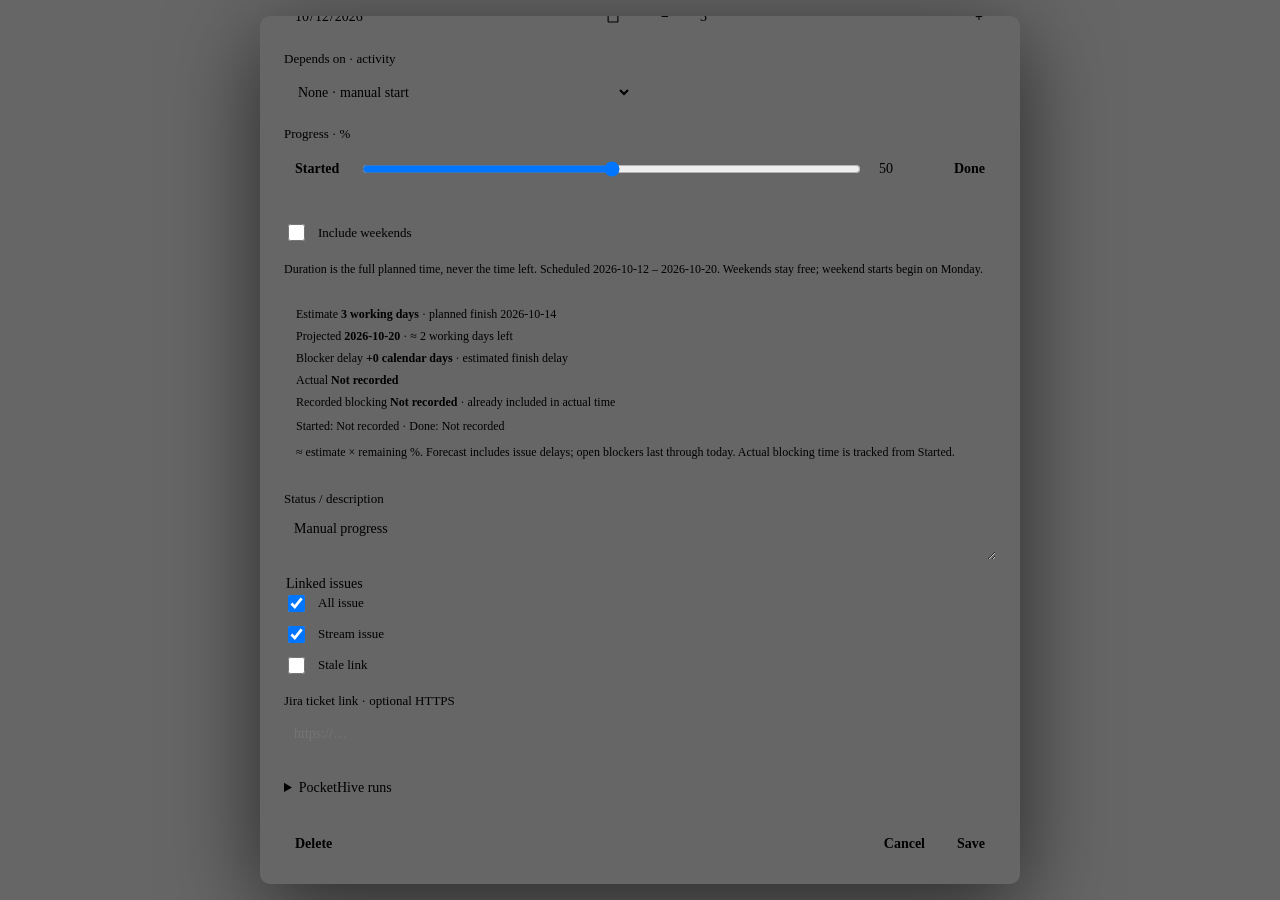
Test case: controlled activity editor › locks every field and action, Escape and dismissal for the whole save promise
(page scrolled)
Click the button "Save". click: [971, 844]
box: [946,828,996,860]
(page scrolled)
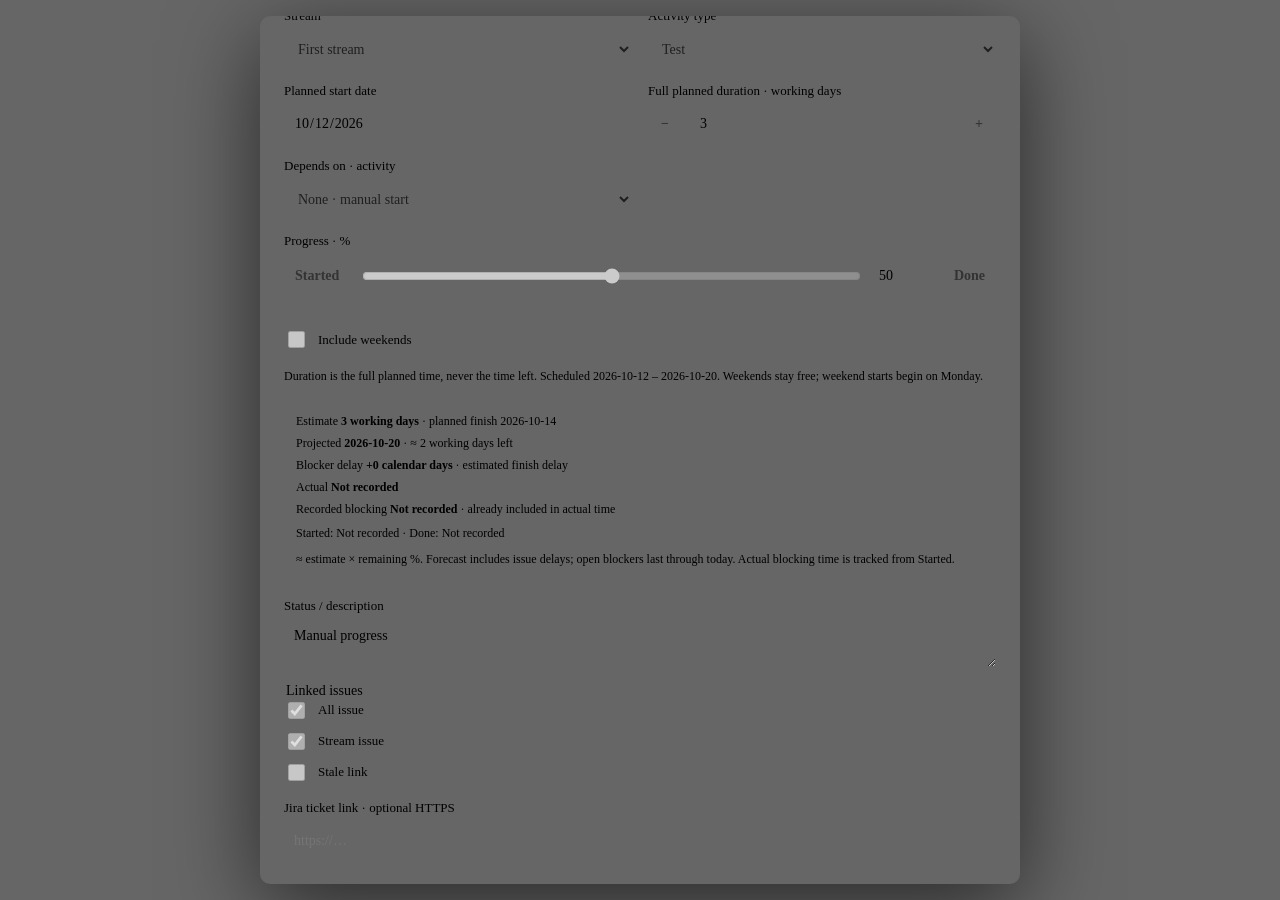
Expected: the dropdown labelled "Stream" is disabled, [284,31,632,67]
Expected: the dropdown labelled "Activity type" is disabled, [648,31,996,67]
Expected: the button "Started" is disabled, [284,260,350,292]
Submit the form
(page scrolled)
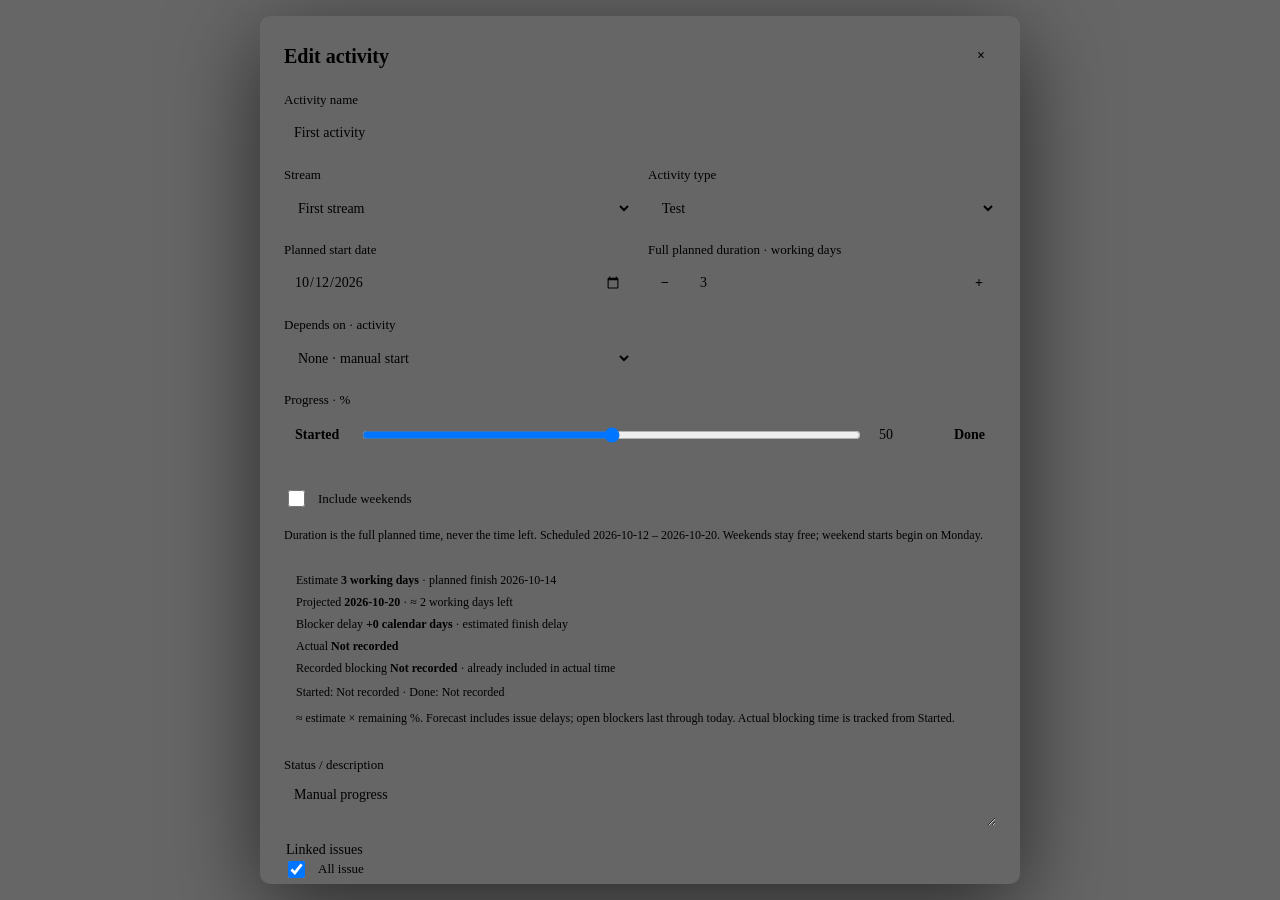
Expected: the field labelled "Activity name" is enabled, [284,115,996,151]
